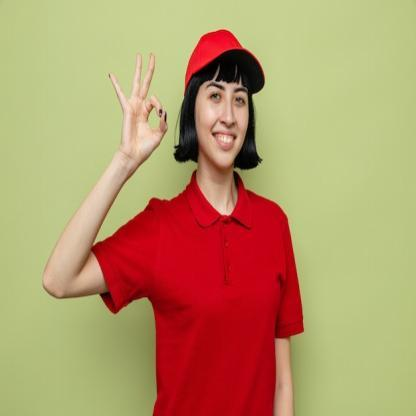ok: (107, 51, 169, 169)
